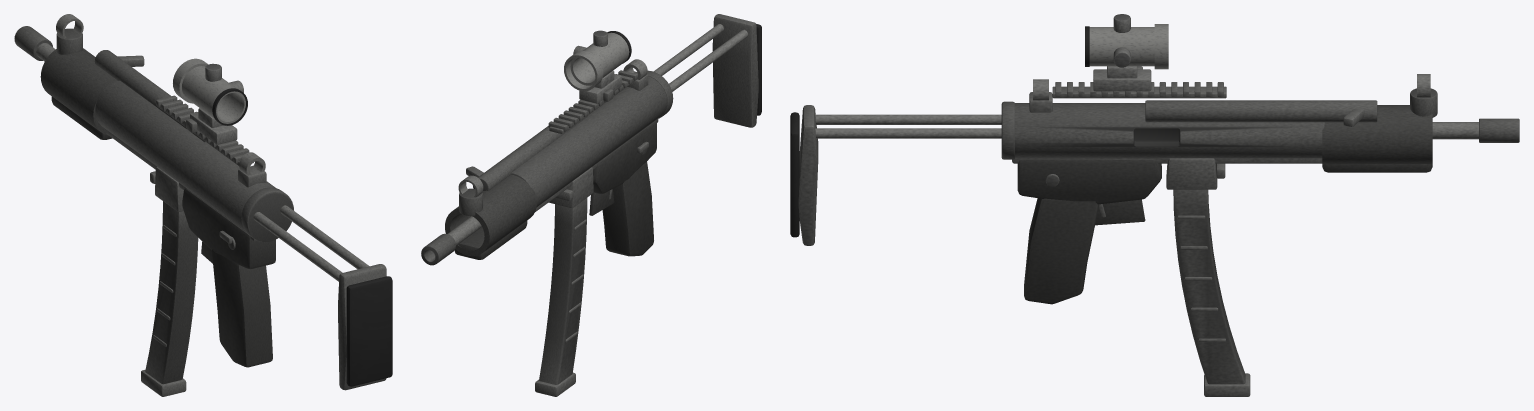
Rendered from SM_WeaponSMG.fbx.
The picture shows the model from 3 angles, left to right: view 1: azimuth 30°, elevation 25°; view 2: azimuth 150°, elevation 25°; view 3: azimuth 270°, elevation 25°; orthographic projection. The views are drawn at different scales.
Parts seen in each view (by area): view 1: SM_WeaponSMG, SM_WeaponSMG_Mag; view 2: SM_WeaponSMG, SM_WeaponSMG_Mag; view 3: SM_WeaponSMG, SM_WeaponSMG_Mag.
Part boxes in pixels (x1,y1,x2,y2): SM_WeaponSMG: (14,14,392,390); SM_WeaponSMG_Mag: (141,201,198,396); SM_WeaponSMG: (421,14,761,265); SM_WeaponSMG_Mag: (535,198,587,396); SM_WeaponSMG: (790,14,1519,304); SM_WeaponSMG_Mag: (1173,189,1250,396).
Size of the model in its own units: 0.0671 by 0.356 by 0.6285.
1 material, 1 textured.
